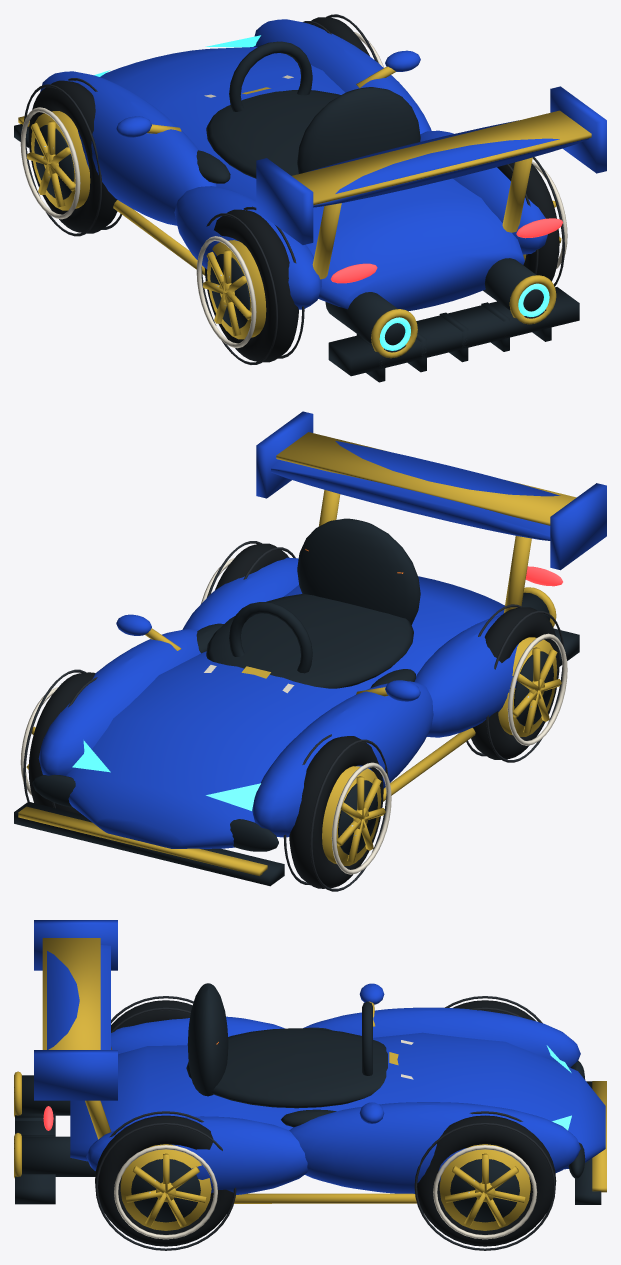
The model's file is kart_roadster_gold.glb.
The picture shows the model from 3 angles, top to bottom: view 1: azimuth 30°, elevation 25°; view 2: azimuth 150°, elevation 25°; view 3: azimuth 270°, elevation 25°; orthographic projection. The views are drawn at different scales.
Visible parts, largest first — view 1: body, wheel-back-left, wheel-front-left, wheel-back-right, wheel-front-right; view 2: body, wheel-front-left, wheel-back-left, wheel-front-right, wheel-back-right; view 3: body, wheel-front-right, wheel-back-right, wheel-back-left, wheel-front-left.
Part boxes in pixels (x1,y1,x2,y2): body: (14,19,606,382); wheel-back-left: (196,206,304,364); wheel-front-left: (20,78,121,236); wheel-back-right: (497,157,567,286); wheel-front-right: (302,14,383,67); body: (14,411,606,886); wheel-front-left: (283,734,391,891); wheel-back-left: (466,604,567,762); wheel-front-right: (20,669,97,814); wheel-back-right: (201,541,295,603); body: (14,920,606,1204); wheel-front-right: (414,1111,556,1250); wheel-back-right: (95,1111,236,1250); wheel-back-left: (111,996,193,1032); wheel-front-left: (444,996,542,1023).
Bounding box in the file's own units: 2.28 × 1.52 × 4.09.
